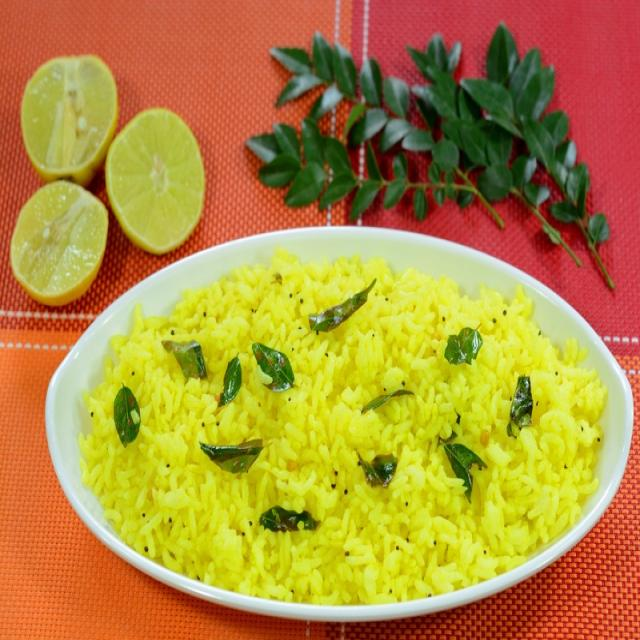lemon rice: (71, 230, 620, 616)
